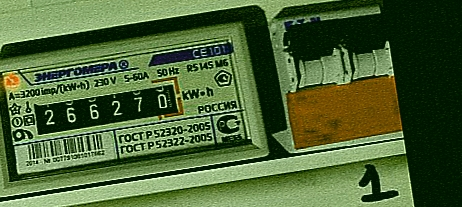0: (154, 91, 168, 110)
2: (40, 107, 55, 127), (108, 98, 122, 117)
6: (85, 102, 100, 121), (63, 104, 77, 124)
7: (131, 94, 144, 113)
screen: (21, 72, 189, 145)
